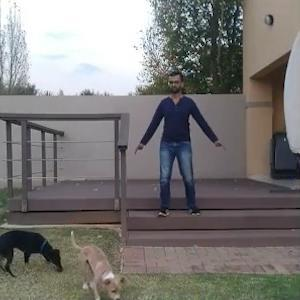land: (137, 74, 219, 227)
